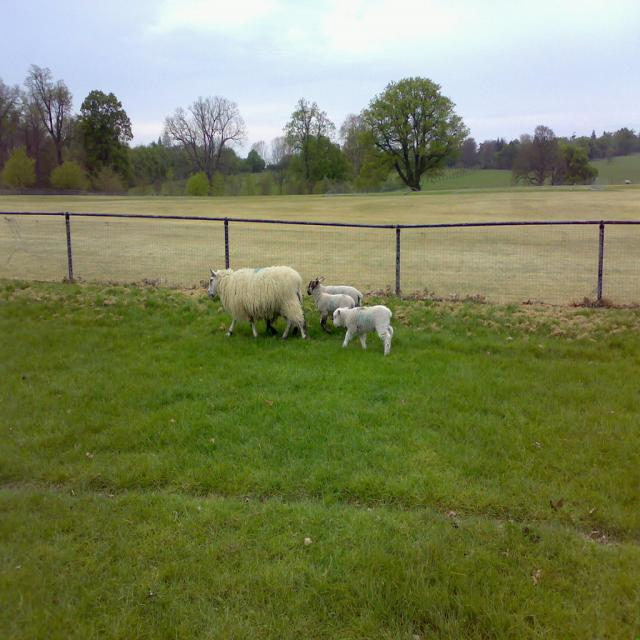Sheep: (206, 265, 394, 357)
